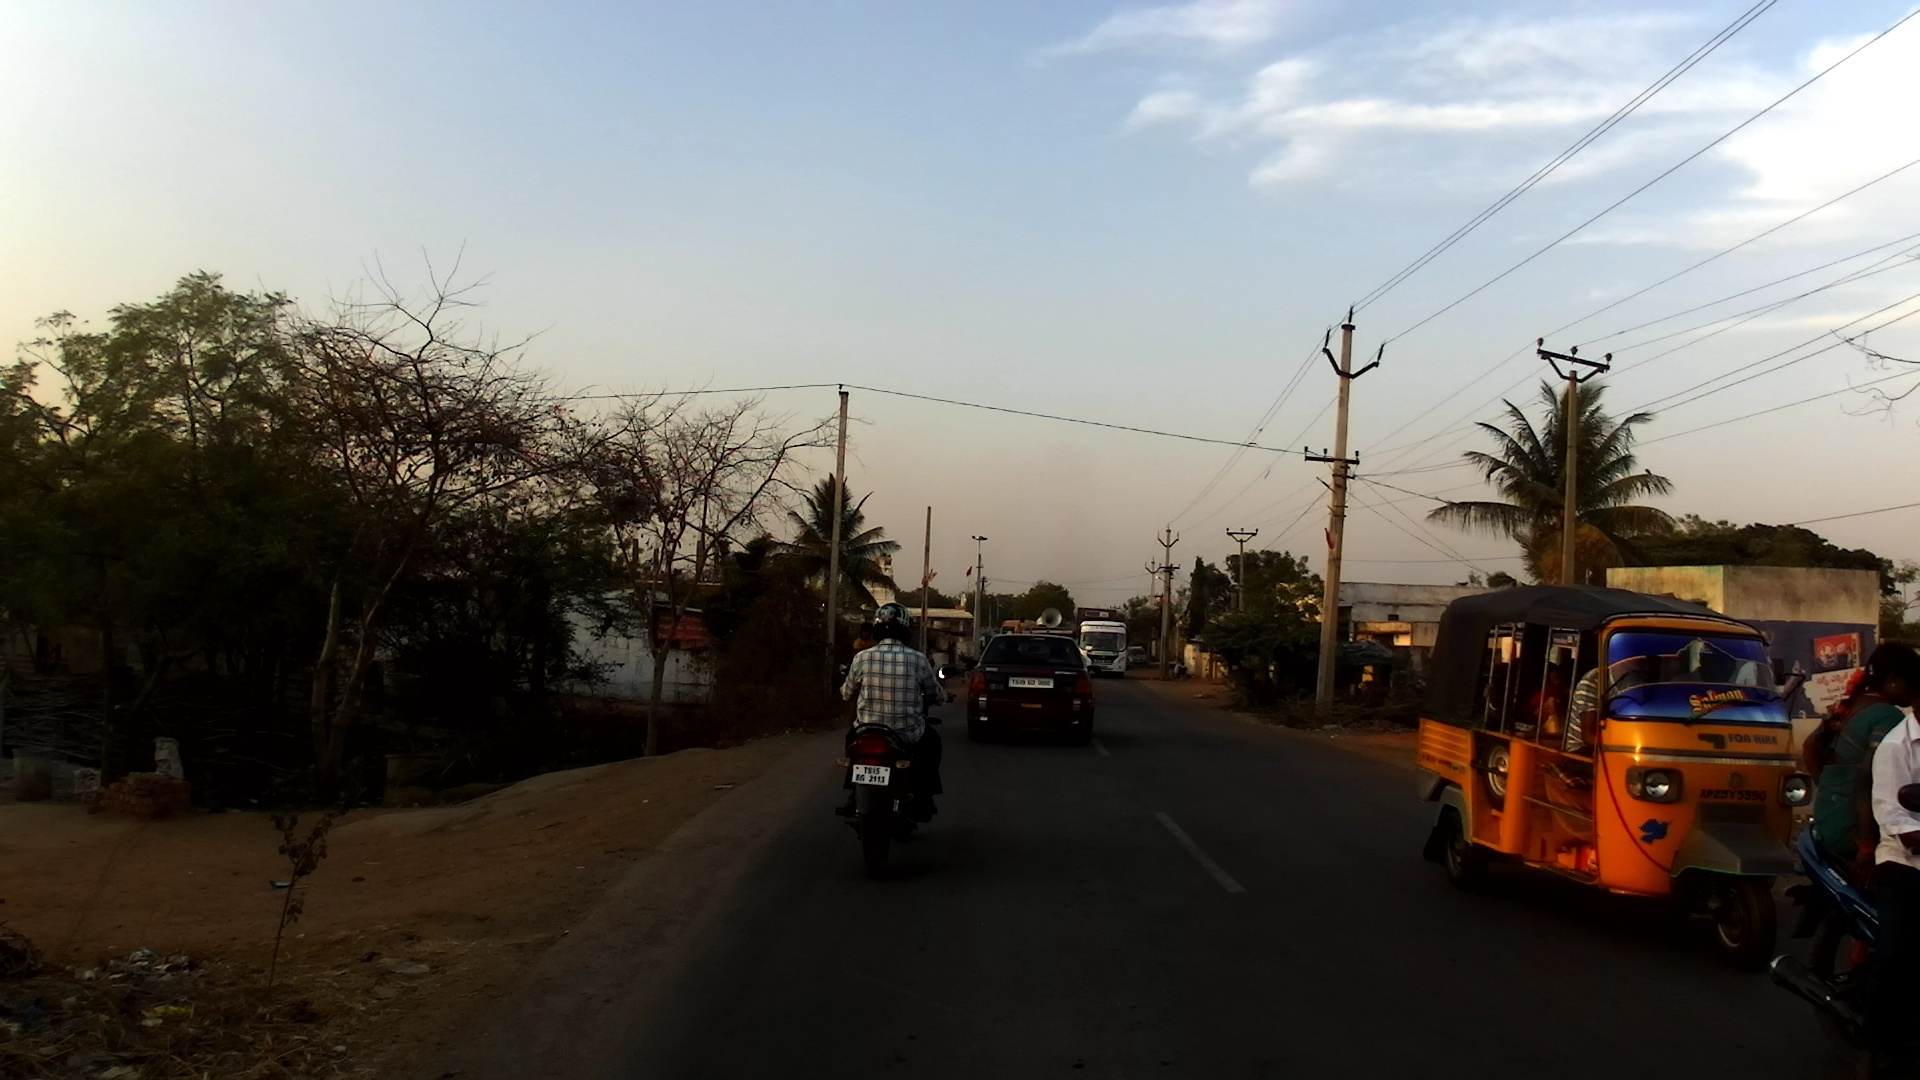autorickshaw: (1412, 583, 1829, 971), (996, 608, 1083, 645)
bus: (1077, 620, 1130, 679)
car: (964, 630, 1095, 748), (1077, 644, 1098, 674), (1130, 646, 1151, 668)
motorcycle: (1766, 781, 1920, 1080), (827, 660, 966, 862)
person: (852, 614, 876, 667), (1174, 659, 1192, 677)
rider: (1801, 638, 1916, 897), (835, 603, 951, 822), (1868, 661, 1918, 1064)
truck: (1074, 608, 1118, 630)
